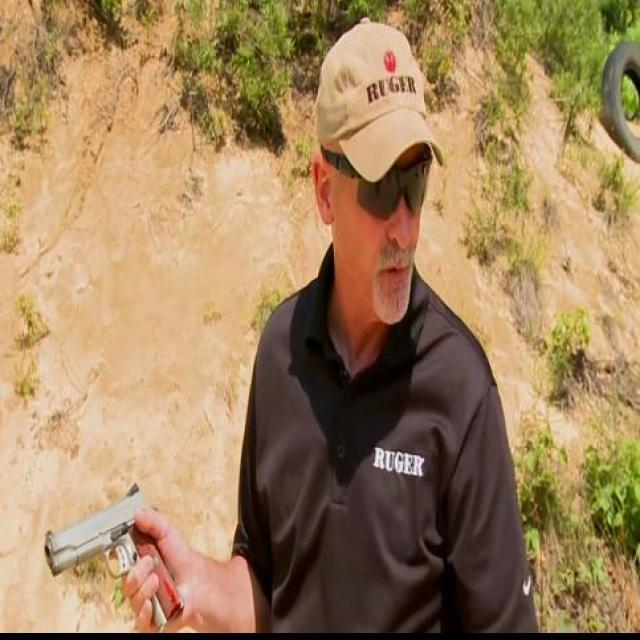Gun: (44, 483, 187, 628)
